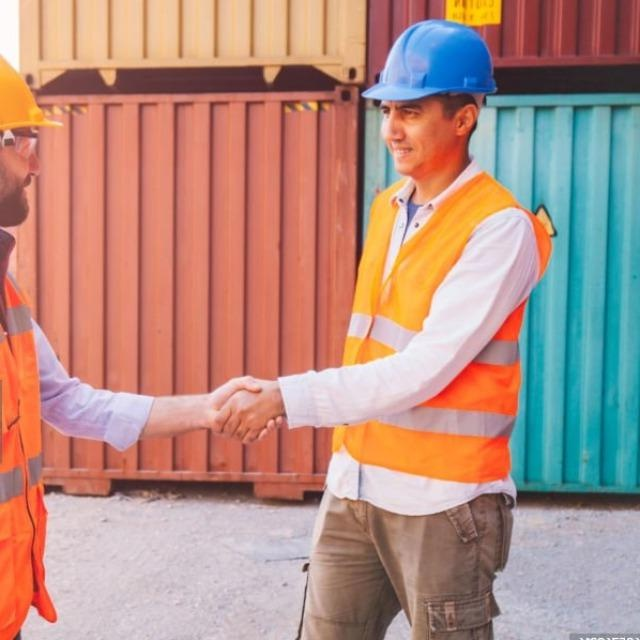Con_Casco: (360, 18, 496, 170)
Con_Chaleco: (326, 169, 549, 475)
